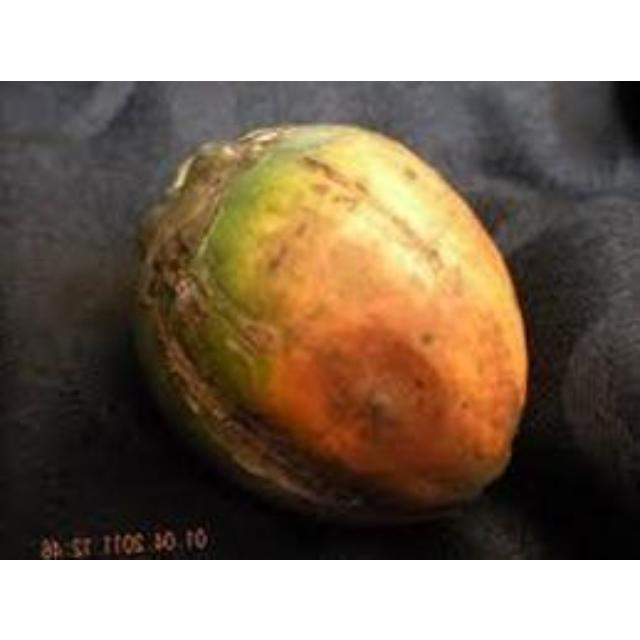good: (128, 122, 531, 530)
